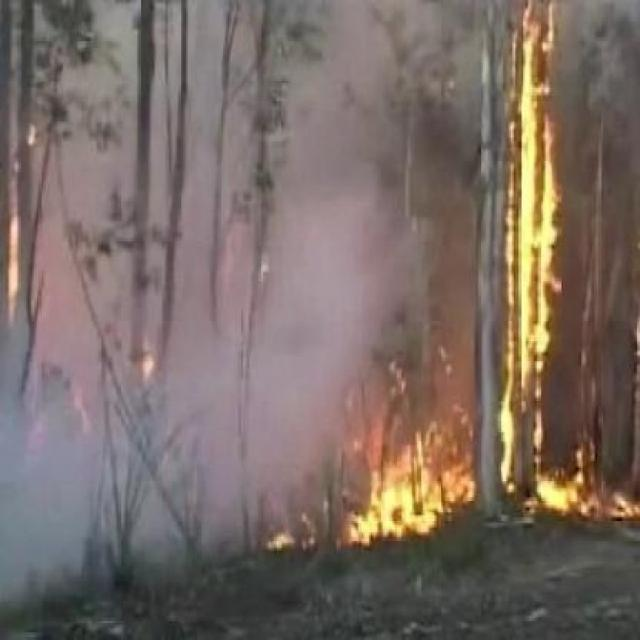Fire: (423, 3, 616, 546)
Smoke: (0, 0, 348, 573)
